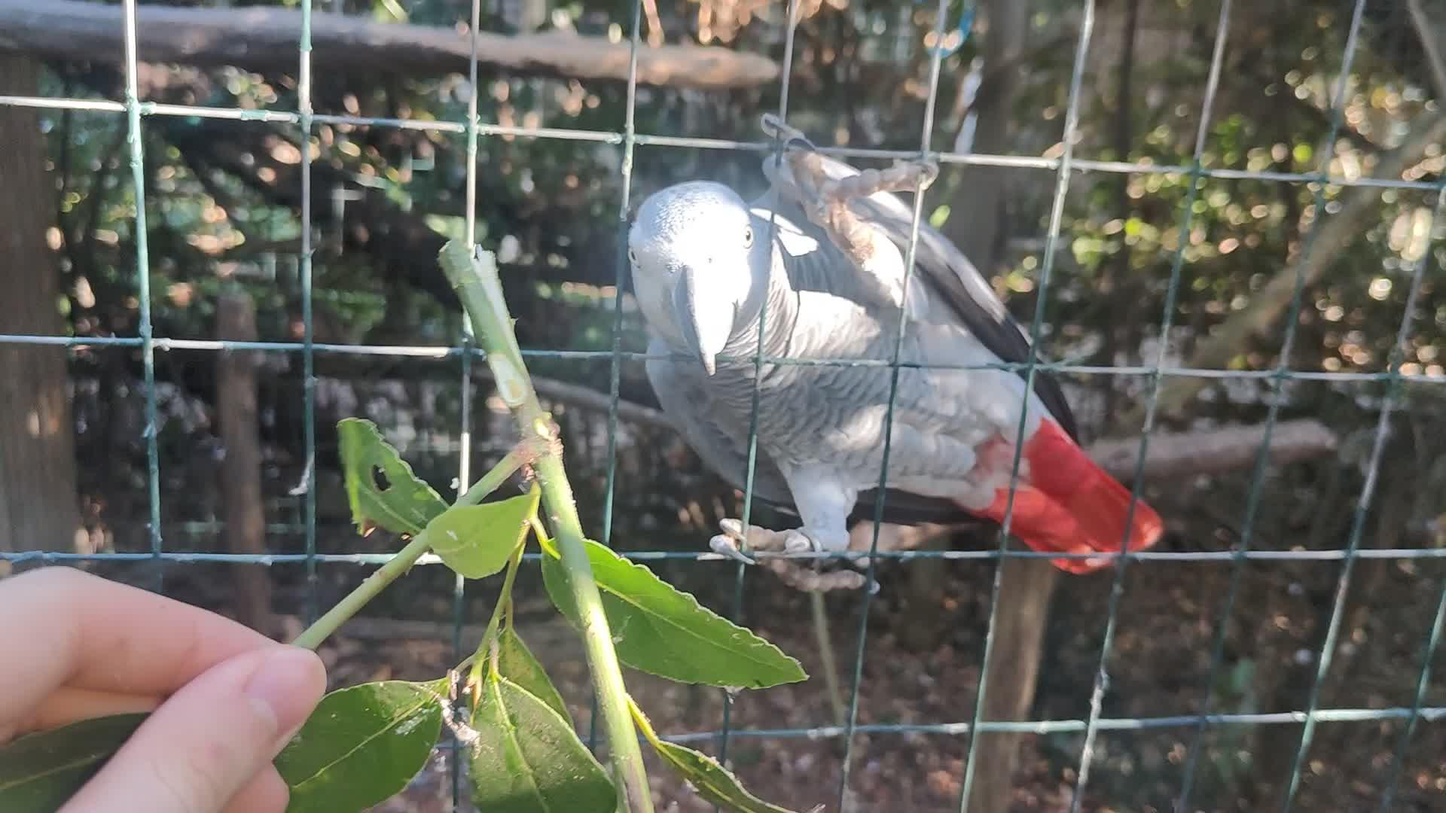apple: (627, 113, 1163, 595)
